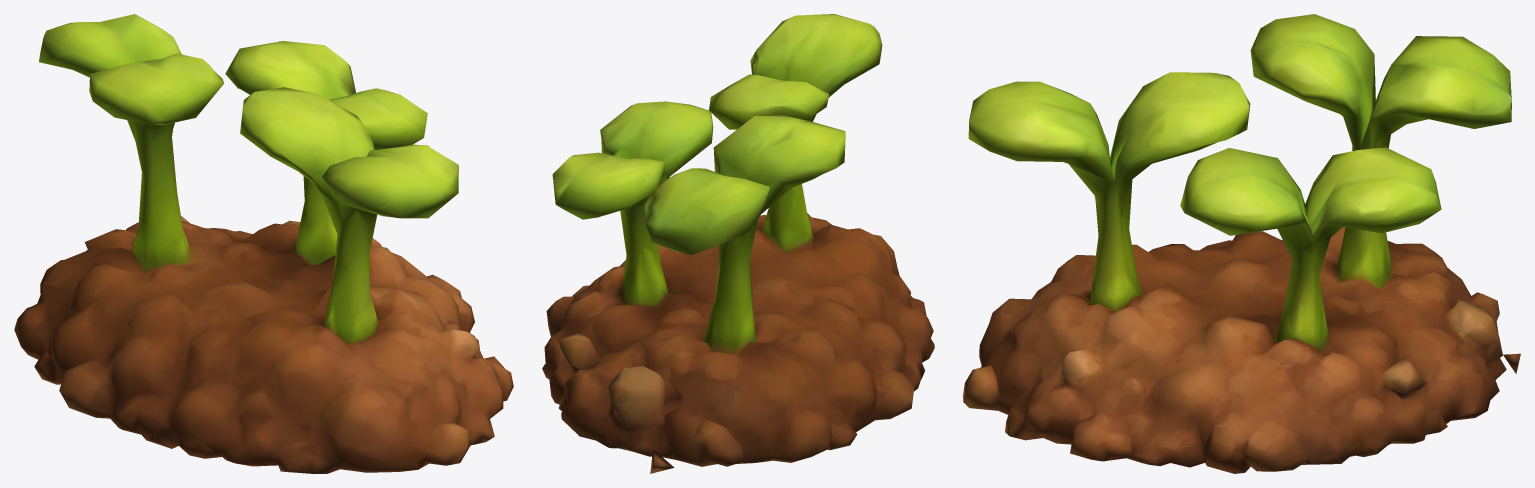
File: pousse.glb
3 renders of one model, left to right at view 1: azimuth 30°, elevation 25°; view 2: azimuth 150°, elevation 25°; view 3: azimuth 270°, elevation 25°, orthographic. The views are drawn at different scales.
Parts seen in each view (by area): view 1: tripo_node_134e5525-8940-44fb-add5-6eebae252752; view 2: tripo_node_134e5525-8940-44fb-add5-6eebae252752; view 3: tripo_node_134e5525-8940-44fb-add5-6eebae252752.
Part boxes in pixels (left/top/right/bottom): tripo_node_134e5525-8940-44fb-add5-6eebae252752: left=14, top=14, right=513, bottom=473; tripo_node_134e5525-8940-44fb-add5-6eebae252752: left=542, top=14, right=934, bottom=473; tripo_node_134e5525-8940-44fb-add5-6eebae252752: left=963, top=14, right=1520, bottom=473.
Size of the model in its own units: 0.8251 by 0.6268 by 1.
1 material, 1 textured.
